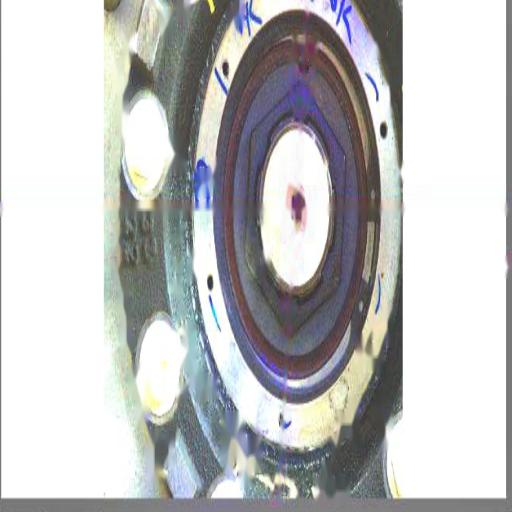center: (290, 192, 306, 228)
notch: (296, 52, 311, 84)
